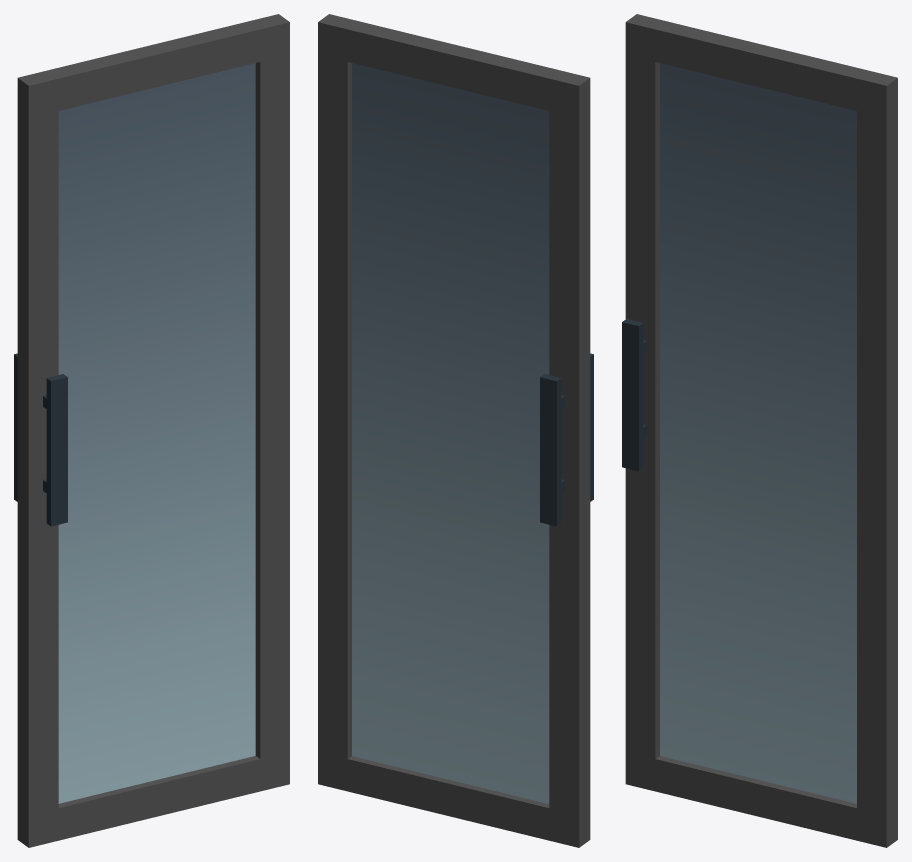
File: SM_Buildings_House_15_Door_R.fbx
3 views of the same model, side by side, from view 1: azimuth 30°, elevation 25°; view 2: azimuth 150°, elevation 25°; view 3: azimuth 330°, elevation 25° (orthographic).
Parts seen in each view (by area): view 1: SM_Buildings_House_15_Door_R; view 2: SM_Buildings_House_15_Door_R; view 3: SM_Buildings_House_15_Door_R.
Part boxes in pixels (left/top/right/bottom): SM_Buildings_House_15_Door_R: left=14, top=14, right=289, bottom=847; SM_Buildings_House_15_Door_R: left=318, top=14, right=593, bottom=847; SM_Buildings_House_15_Door_R: left=622, top=14, right=897, bottom=847.
Bounding box in the file's own units: 0.755 × 2.11 × 0.1853.
